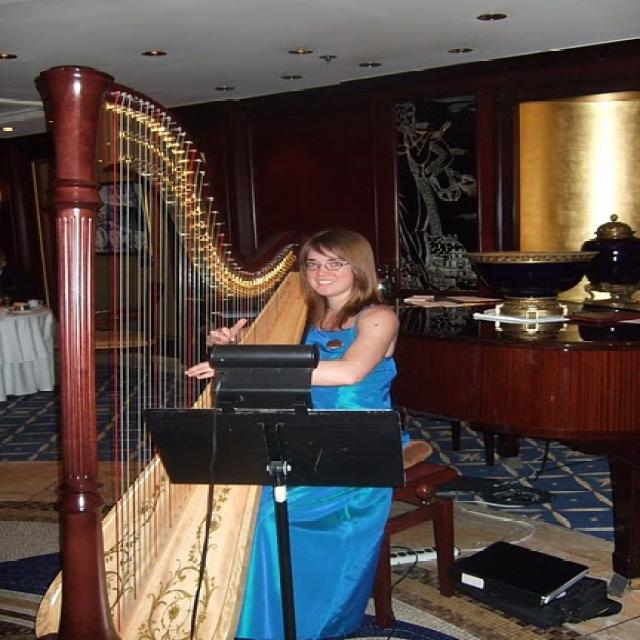harp: (31, 59, 330, 640)
